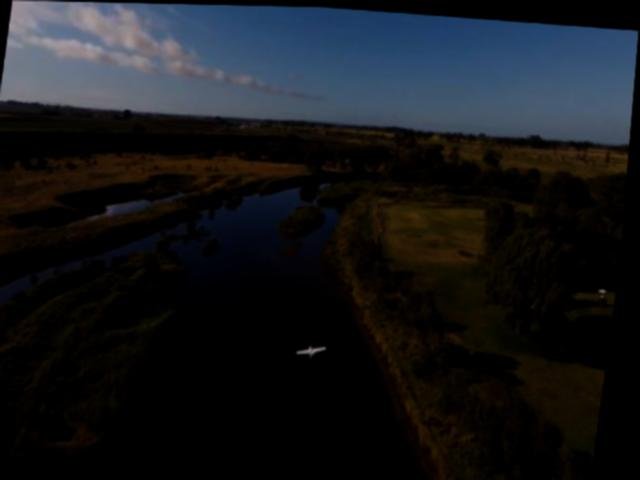uav: (299, 335, 335, 361)
